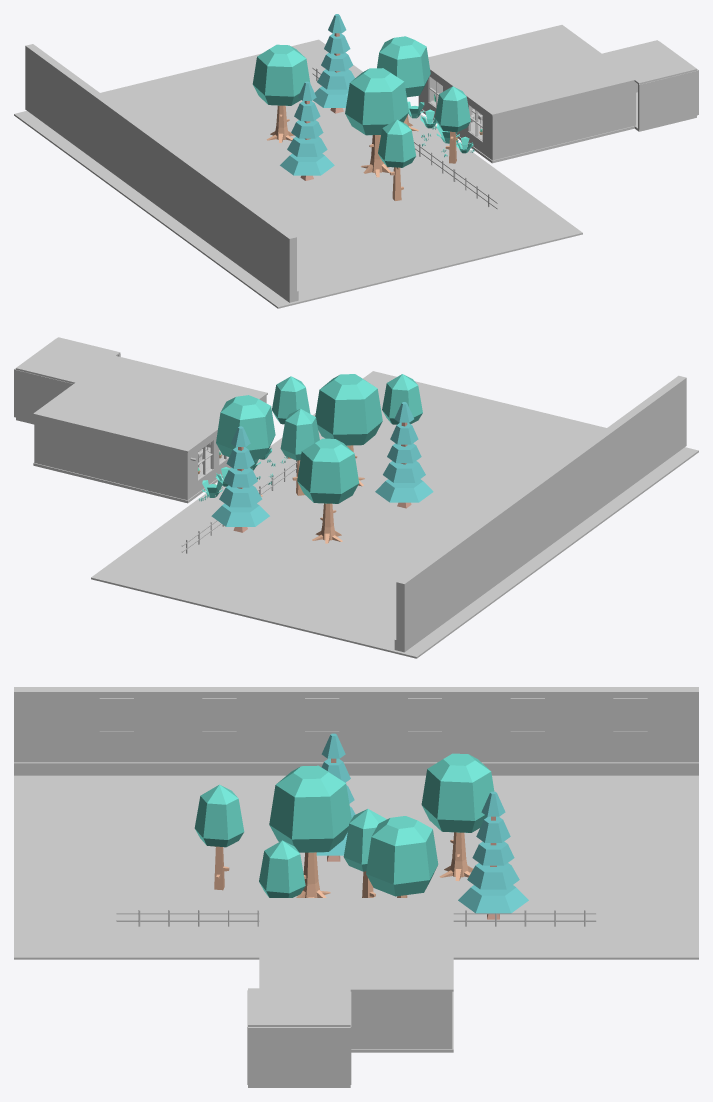
File: set.glb
3 views of the same model, one above another, from view 1: azimuth 30°, elevation 25°; view 2: azimuth 150°, elevation 25°; view 3: azimuth 270°, elevation 25° (orthographic). The views are drawn at different scales.
Visible parts, largest first — view 1: grass, far_wall, ceiling, k_leafsGreen, wall, k_leafsDark, hall_wall, hall_ceiling, k_woodBark, path, k_grass, floor (+1 smaller); view 2: grass, far_wall, k_leafsGreen, ceiling, wall_front, k_leafsDark, hall_ceiling, hall_wall, wall, k_woodBark, floor, path (+1 smaller); view 3: grass, far_wall, k_leafsGreen, ceiling, window_far, brick, hall_wall, wall, k_leafsDark, hall_ceiling, k_woodBark, fence.
Part boxes in pixels (left/top/right/bottom): grass: left=14, top=39, right=582, bottom=308; far_wall: left=25, top=44, right=296, bottom=302; ceiling: left=428, top=25, right=636, bottom=116; k_leafsGreen: left=252, top=36, right=470, bottom=167; wall: left=420, top=71, right=635, bottom=160; k_leafsDark: left=280, top=14, right=354, bottom=175; hall_wall: left=636, top=42, right=698, bottom=129; hall_ceiling: left=602, top=40, right=696, bottom=84; k_woodBark: left=266, top=105, right=458, bottom=200; path: left=296, top=41, right=574, bottom=238; k_grass: left=407, top=101, right=474, bottom=157; floor: left=418, top=106, right=636, bottom=163; grass: left=91, top=371, right=698, bottom=658; far_wall: left=396, top=375, right=686, bottom=652; k_leafsGreen: left=216, top=374, right=422, bottom=503; ceiling: left=33, top=355, right=267, bottom=452; wall_front: left=34, top=415, right=189, bottom=500; k_leafsDark: left=211, top=402, right=433, bottom=526; hall_ceiling: left=16, top=337, right=120, bottom=383; hall_wall: left=14, top=339, right=120, bottom=421; wall: left=189, top=396, right=266, bottom=498; k_woodBark: left=250, top=445, right=364, bottom=543; floor: left=33, top=448, right=222, bottom=503; path: left=98, top=382, right=384, bottom=584; grass: left=14, top=775, right=698, bottom=959; far_wall: left=14, top=687, right=698, bottom=762; k_leafsGreen: left=194, top=753, right=494, bottom=897; ceiling: left=259, top=898, right=453, bottom=991; window_far: left=99, top=698, right=647, bottom=752; brick: left=14, top=762, right=698, bottom=775; hall_wall: left=247, top=990, right=351, bottom=1085; wall: left=351, top=991, right=447, bottom=1048; k_leafsDark: left=316, top=733, right=528, bottom=913; hall_ceiling: left=248, top=988, right=350, bottom=1026; k_woodBark: left=214, top=832, right=472, bottom=897; fence: left=116, top=910, right=596, bottom=926.
Size of the model in its own units: 67.05 by 12.5 by 60.
